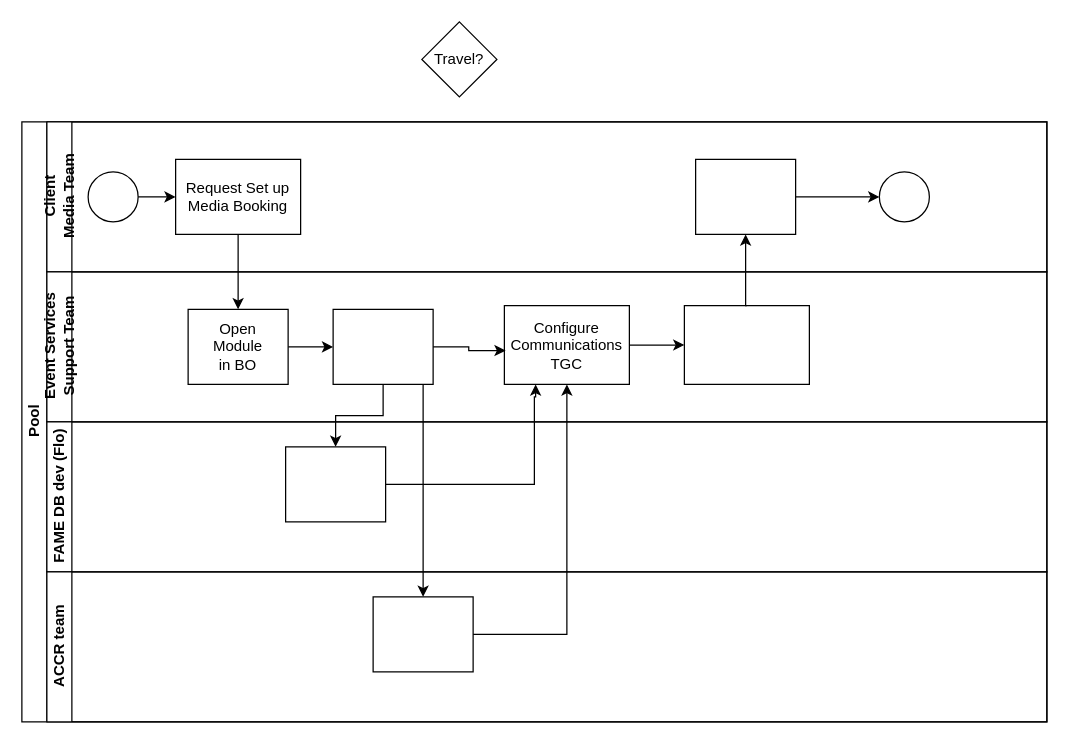
The diagram is 1069 pixels wide and 744 high, and some of its shapes have lost their labels. Here are the shapes that lost their labels. From the top down, the centre of each, then its label:
At (745,196): "Business configures Modules".
At (382,346): "Create Authorisation groups".
At (746,344): "Test".
At (335,484): "Bind profiles through script".
At (422,634): "Configure Accred".
